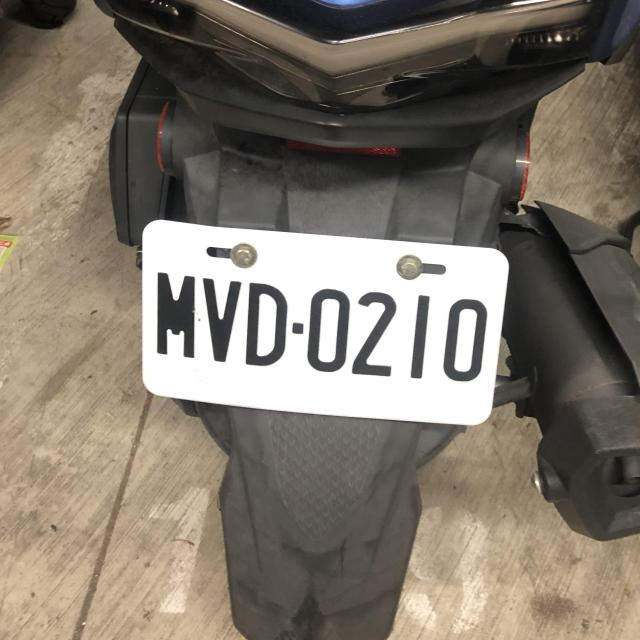W: (132, 224, 512, 422)
